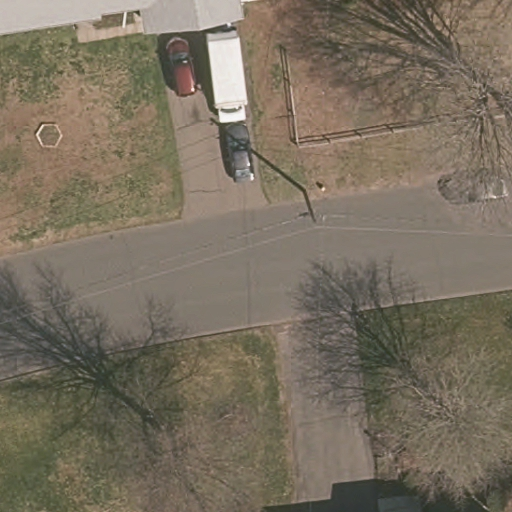DT: (294, 206, 329, 227)
